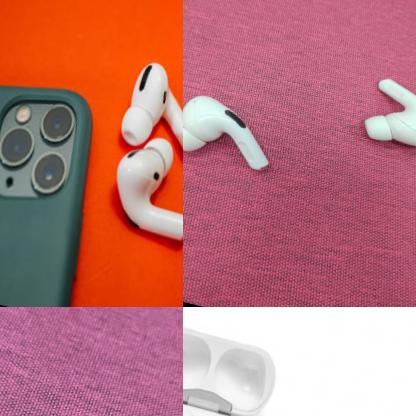Airpods: (183, 70, 299, 189), (83, 137, 183, 249), (347, 61, 416, 167), (110, 62, 183, 161)
